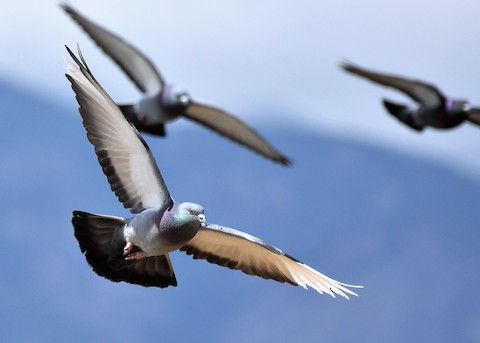pigeon: (45, 41, 369, 306), (52, 4, 303, 171), (330, 50, 473, 139)
